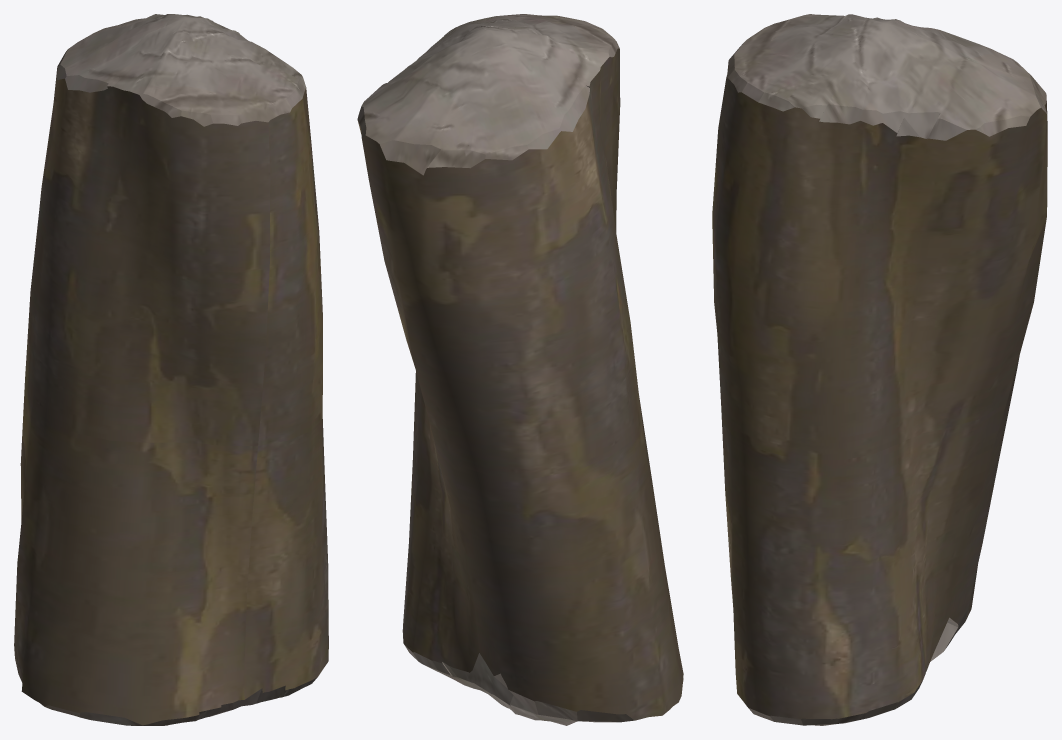
3 views of the same model, side by side, from view 1: azimuth 30°, elevation 25°; view 2: azimuth 150°, elevation 25°; view 3: azimuth 270°, elevation 25° (orthographic). The views are drawn at different scales.
Parts seen in each view (by area): view 1: SM_Yew_01_quarter_02_LOD0; view 2: SM_Yew_01_quarter_02_LOD0; view 3: SM_Yew_01_quarter_02_LOD0.
Boxes of the visible parts, <box> form: SM_Yew_01_quarter_02_LOD0: <box>14,14,328,725</box>; SM_Yew_01_quarter_02_LOD0: <box>357,14,683,725</box>; SM_Yew_01_quarter_02_LOD0: <box>712,14,1047,725</box>.
Bounding box in the file's own units: 0.9271 × 2.23 × 0.9647.
1 material, 1 textured.
